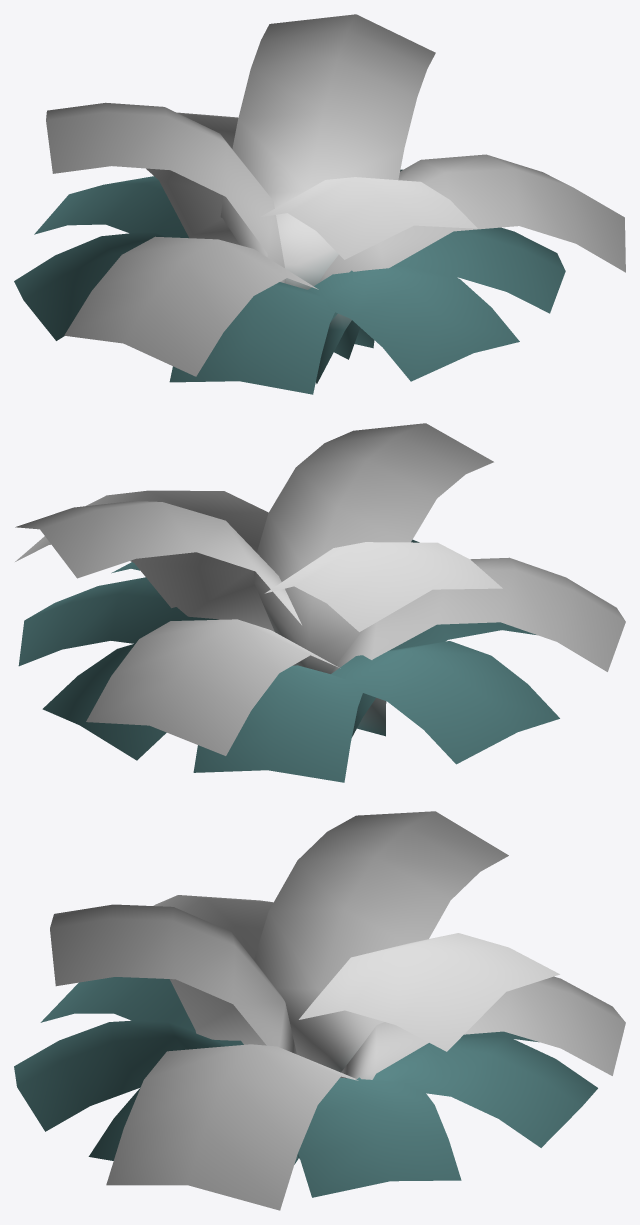
Rendered from fern.glb.
3 renders of one model, top to bottom at view 1: azimuth 30°, elevation 25°; view 2: azimuth 150°, elevation 25°; view 3: azimuth 270°, elevation 25°, orthographic. The views are drawn at different scales.
Parts seen in each view (by area): view 1: fern; view 2: fern; view 3: fern.
Boxes of the visible parts, x1,y1,x2,y2 form: fern: [14, 14, 625, 394]; fern: [15, 423, 625, 782]; fern: [14, 811, 625, 1210].
Size of the model in its own units: 2.15 by 0.8938 by 1.95.
